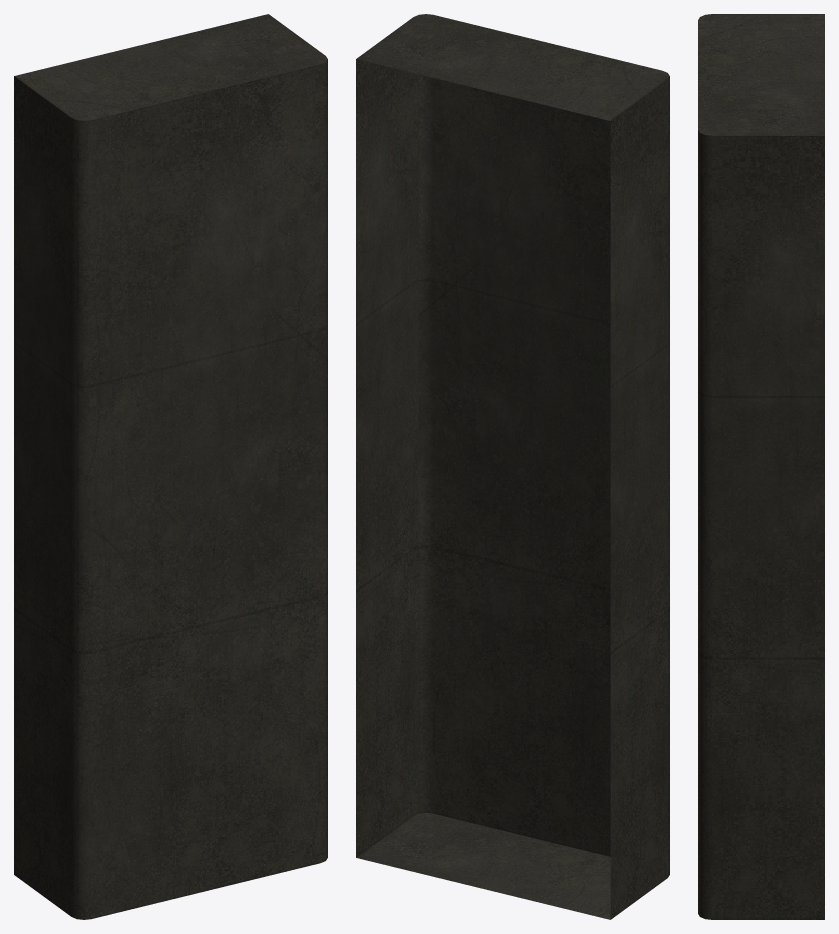
File: wall_element_1.glb
3 renders of one model, left to right at view 1: azimuth 30°, elevation 25°; view 2: azimuth 150°, elevation 25°; view 3: azimuth 270°, elevation 25°, orthographic.
Parts seen in each view (by area): view 1: wall_element_1; view 2: wall_element_1; view 3: wall_element_1.
Part boxes in pixels (x1,y1,x2,y2): wall_element_1: (14, 14, 327, 919); wall_element_1: (356, 14, 669, 919); wall_element_1: (698, 14, 824, 919).
Size of the model in its own units: 1 by 3 by 0.44.
Materials: 1 (1 with a texture image).
